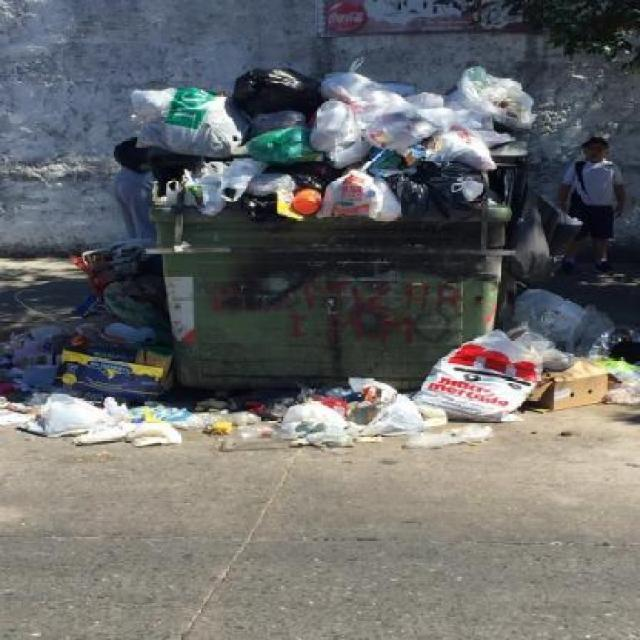garbage: (108, 52, 530, 214), (9, 245, 174, 450), (166, 375, 504, 442), (421, 299, 616, 402)
